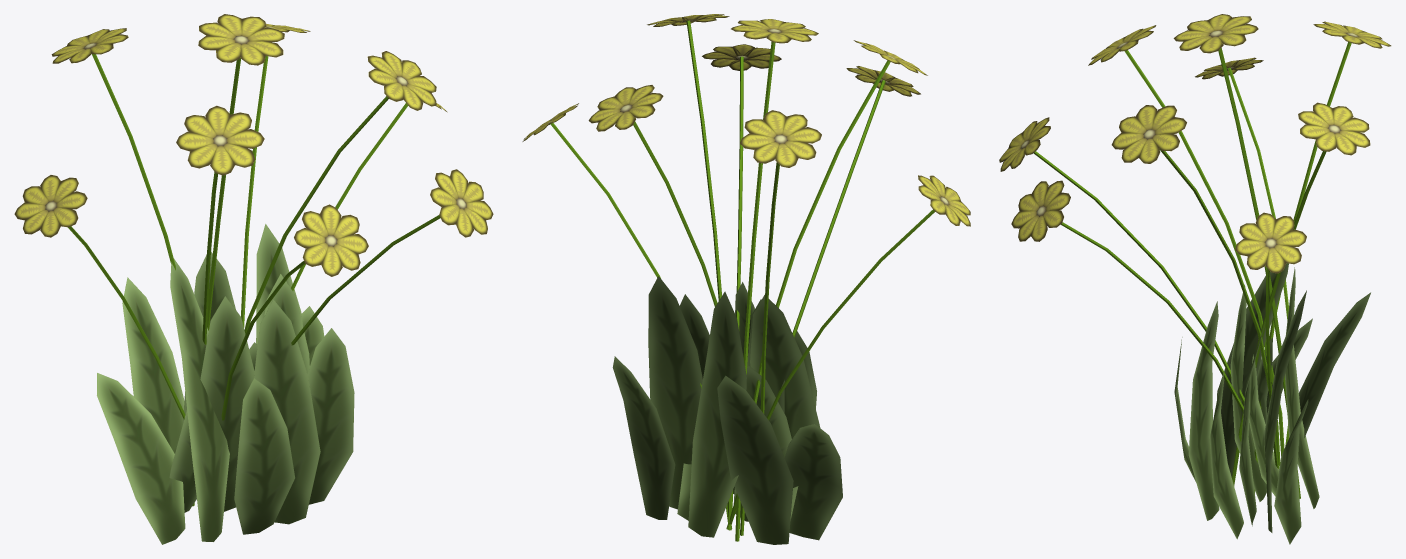
Rendered from planta7.fbx.
The picture shows the model from 3 angles, left to right: view 1: azimuth 30°, elevation 25°; view 2: azimuth 150°, elevation 25°; view 3: azimuth 270°, elevation 25°; orthographic projection. The views are drawn at different scales.
Parts seen in each view (by area): view 1: pPlane167, pPlane166, pPlane170, pPlane158, pPlane169, pPlane174, pPlane173, pPlane176, pPlane171, pPlane177, pCylinder12, pPlane168 (+9 smaller); view 2: pPlane174, pPlane177, pPlane176, pPlane170, pPlane178, pPlane167, pCylinder13, pCylinder15, pPlane171, pCylinder12, pCylinder16, pCylinder17 (+7 smaller); view 3: pPlane166, pPlane167, pPlane174, pPlane169, pPlane178, pPlane176, pPlane177, pPlane173, pCylinder15, pPlane175, pPlane168, pCylinder13 (+10 smaller).
Part boxes in pixels (x1,y1,x2,y2): pPlane167: [170, 259, 229, 541]; pPlane166: [254, 299, 320, 524]; pPlane170: [97, 373, 185, 544]; pPlane158: [234, 378, 295, 534]; pPlane169: [307, 328, 354, 504]; pPlane174: [122, 277, 184, 453]; pPlane173: [200, 296, 254, 511]; pPlane176: [256, 224, 302, 344]; pPlane171: [169, 410, 196, 512]; pPlane177: [183, 251, 235, 422]; pCylinder12: [244, 96, 388, 334]; pPlane168: [264, 274, 309, 373]; pPlane174: [717, 375, 793, 544]; pPlane177: [688, 291, 746, 537]; pPlane176: [648, 276, 702, 509]; pPlane170: [784, 424, 842, 540]; pPlane178: [612, 356, 675, 519]; pPlane167: [750, 295, 820, 438]; pCylinder13: [735, 42, 775, 541]; pCylinder15: [740, 60, 890, 535]; pPlane171: [746, 365, 798, 520]; pCylinder12: [686, 20, 731, 530]; pCylinder16: [726, 80, 885, 529]; pCylinder17: [729, 209, 934, 524]; pPlane166: [1188, 301, 1219, 520]; pPlane167: [1217, 263, 1288, 477]; pPlane174: [1299, 292, 1370, 437]; pPlane169: [1209, 372, 1243, 539]; pPlane178: [1274, 399, 1308, 544]; pPlane176: [1264, 290, 1306, 532]; pPlane177: [1285, 267, 1319, 508]; pPlane173: [1230, 285, 1266, 501]; pCylinder15: [1124, 50, 1284, 456]; pPlane175: [1248, 354, 1279, 496]; pPlane168: [1239, 322, 1265, 526]; pCylinder13: [1218, 48, 1300, 498].
Bounding box in the file's own units: 0.815 × 0.9058 × 0.6723.
